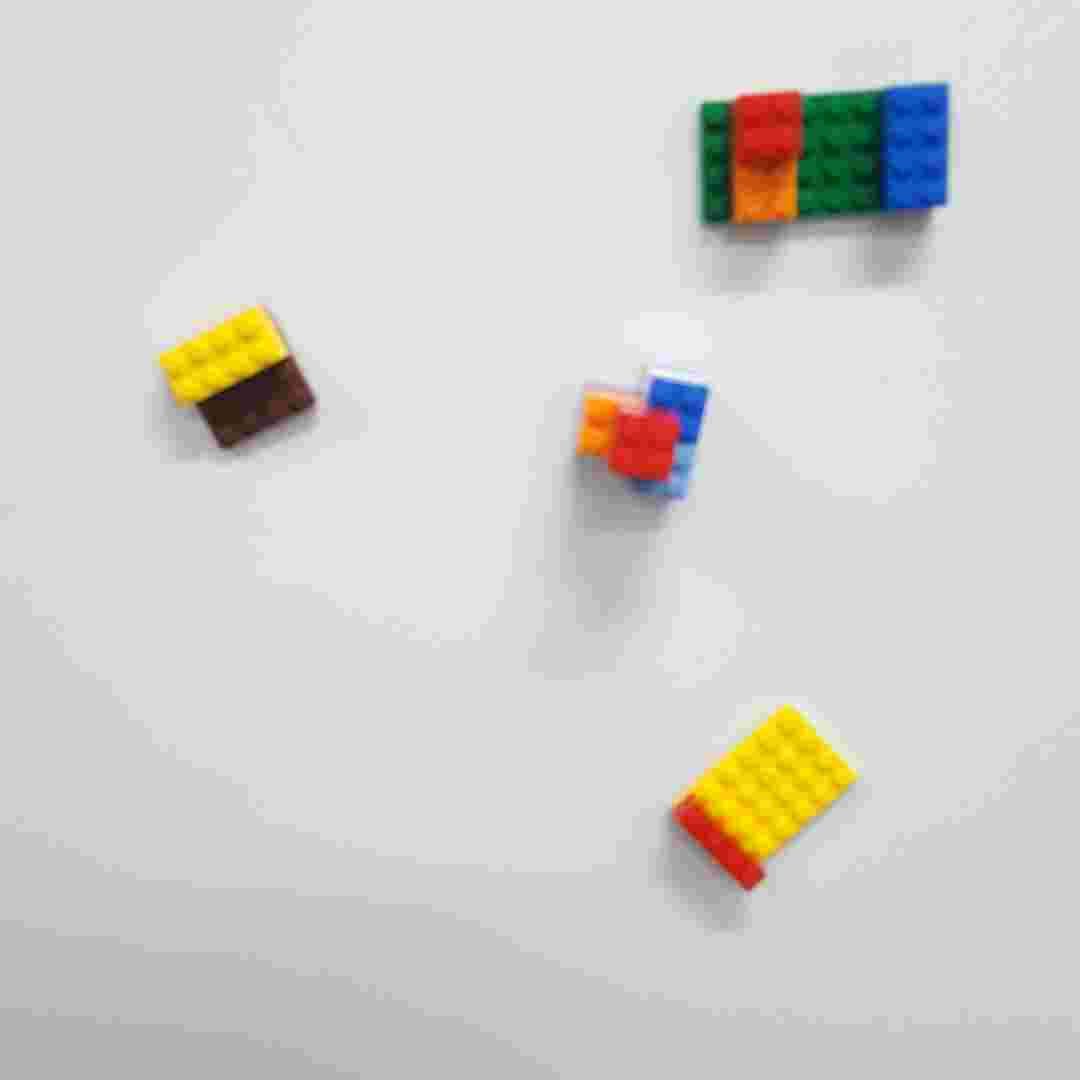LEGO: (694, 79, 958, 230), (663, 702, 861, 888), (158, 302, 324, 449), (568, 371, 712, 504)
